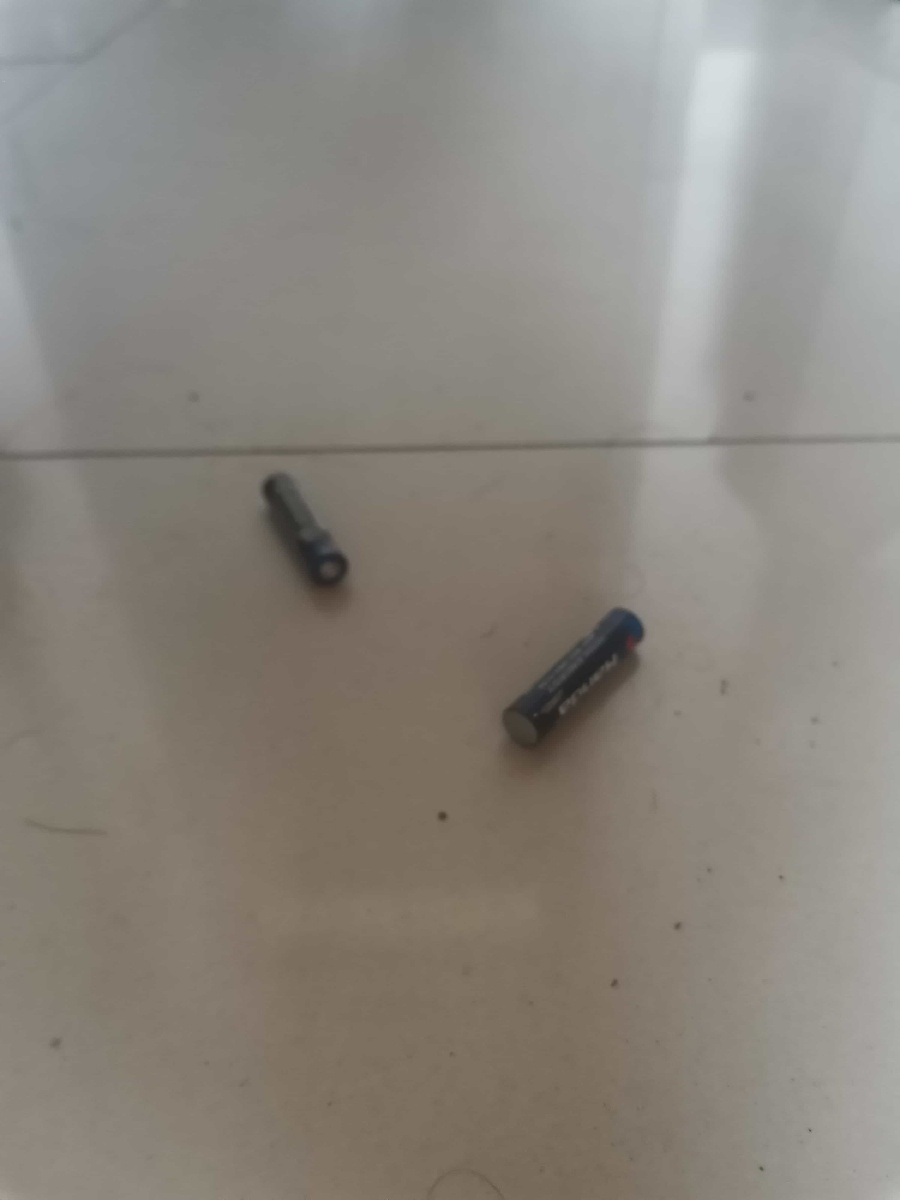battery: (496, 602, 652, 753), (252, 463, 365, 593)
